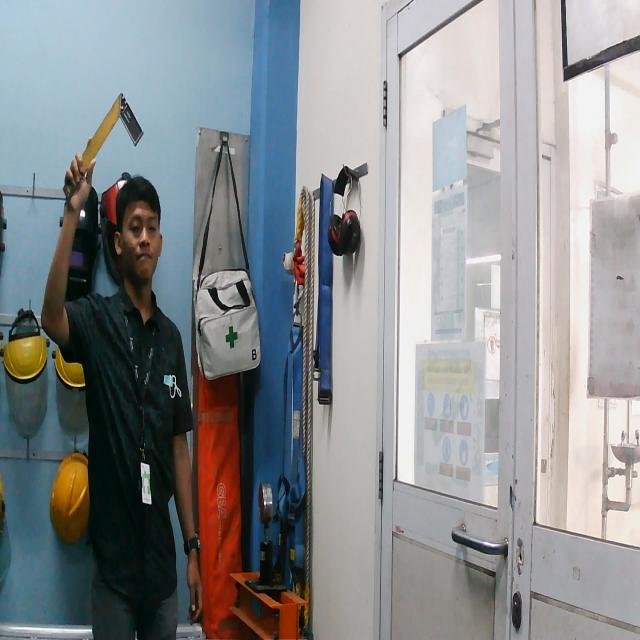penggaris_siku: (59, 80, 148, 206)
